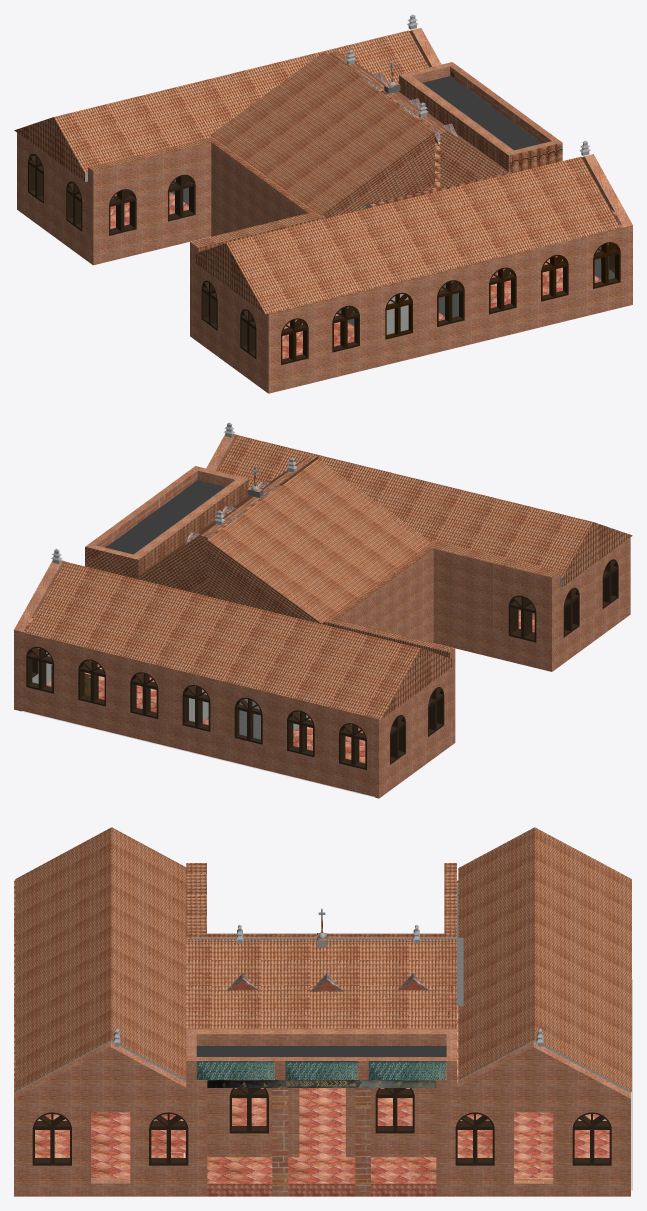
3 renders of one model, top to bottom at view 1: azimuth 30°, elevation 25°; view 2: azimuth 150°, elevation 25°; view 3: azimuth 270°, elevation 25°, orthographic. The views are drawn at different scales.
Parts seen in each view (by area): view 1: Group_001, Group_068, Group_069, Group_067; view 2: Group_001, Group_067, Group_069, Group_068, Plane001; view 3: Group_001, Group_067, Group_068, Group_069.
Boxes of the visible parts, x1=… form: Group_001: x1=17, y1=28, x2=632, y2=393; Group_068: x1=195, y1=156, x2=620, y2=314; Group_069: x1=210, y1=51, x2=434, y2=218; Group_067: x1=14, y1=30, x2=429, y2=181; Group_001: x1=14, y1=434, x2=630, y2=798; Group_067: x1=26, y1=561, x2=452, y2=719; Group_069: x1=207, y1=459, x2=431, y2=623; Group_068: x1=218, y1=435, x2=632, y2=586; Plane001: x1=22, y1=711, x2=375, y2=797; Group_001: x1=14, y1=863, x2=630, y2=1196; Group_067: x1=458, y1=827, x2=631, y2=1091; Group_068: x1=15, y1=827, x2=186, y2=1091; Group_069: x1=193, y1=937, x2=463, y2=1006.
Bounding box in the file's own units: 2145 × 995 × 2553.
17 materials, 11 textured.
